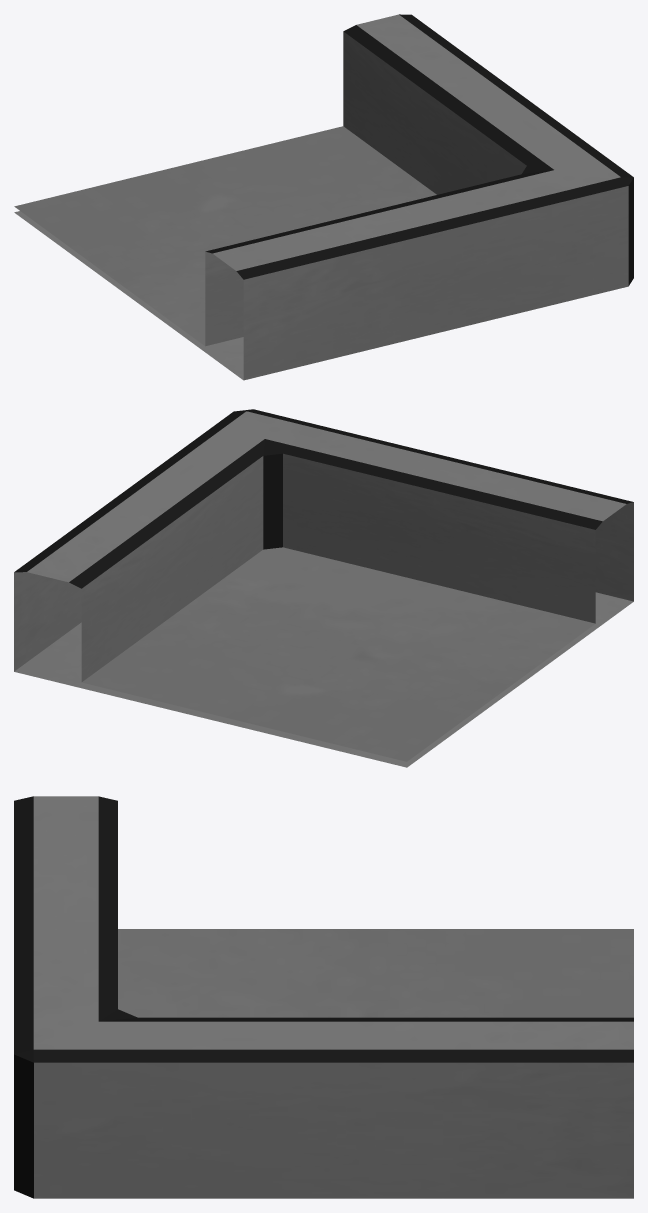
File: Environment2_misc_moltenpitcorner.fbx
The picture shows the model from 3 angles, top to bottom: view 1: azimuth 30°, elevation 25°; view 2: azimuth 150°, elevation 25°; view 3: azimuth 270°, elevation 25°; orthographic projection. The views are drawn at different scales.
Visible parts, largest first — view 1: Molten Pit Corner; view 2: Molten Pit Corner; view 3: Molten Pit Corner.
Part boxes in pixels (x1,y1,x2,y2): Molten Pit Corner: (14, 14, 633, 380); Molten Pit Corner: (14, 409, 633, 767); Molten Pit Corner: (14, 796, 633, 1198).
Size of the model in its own units: 4 by 1 by 4.
